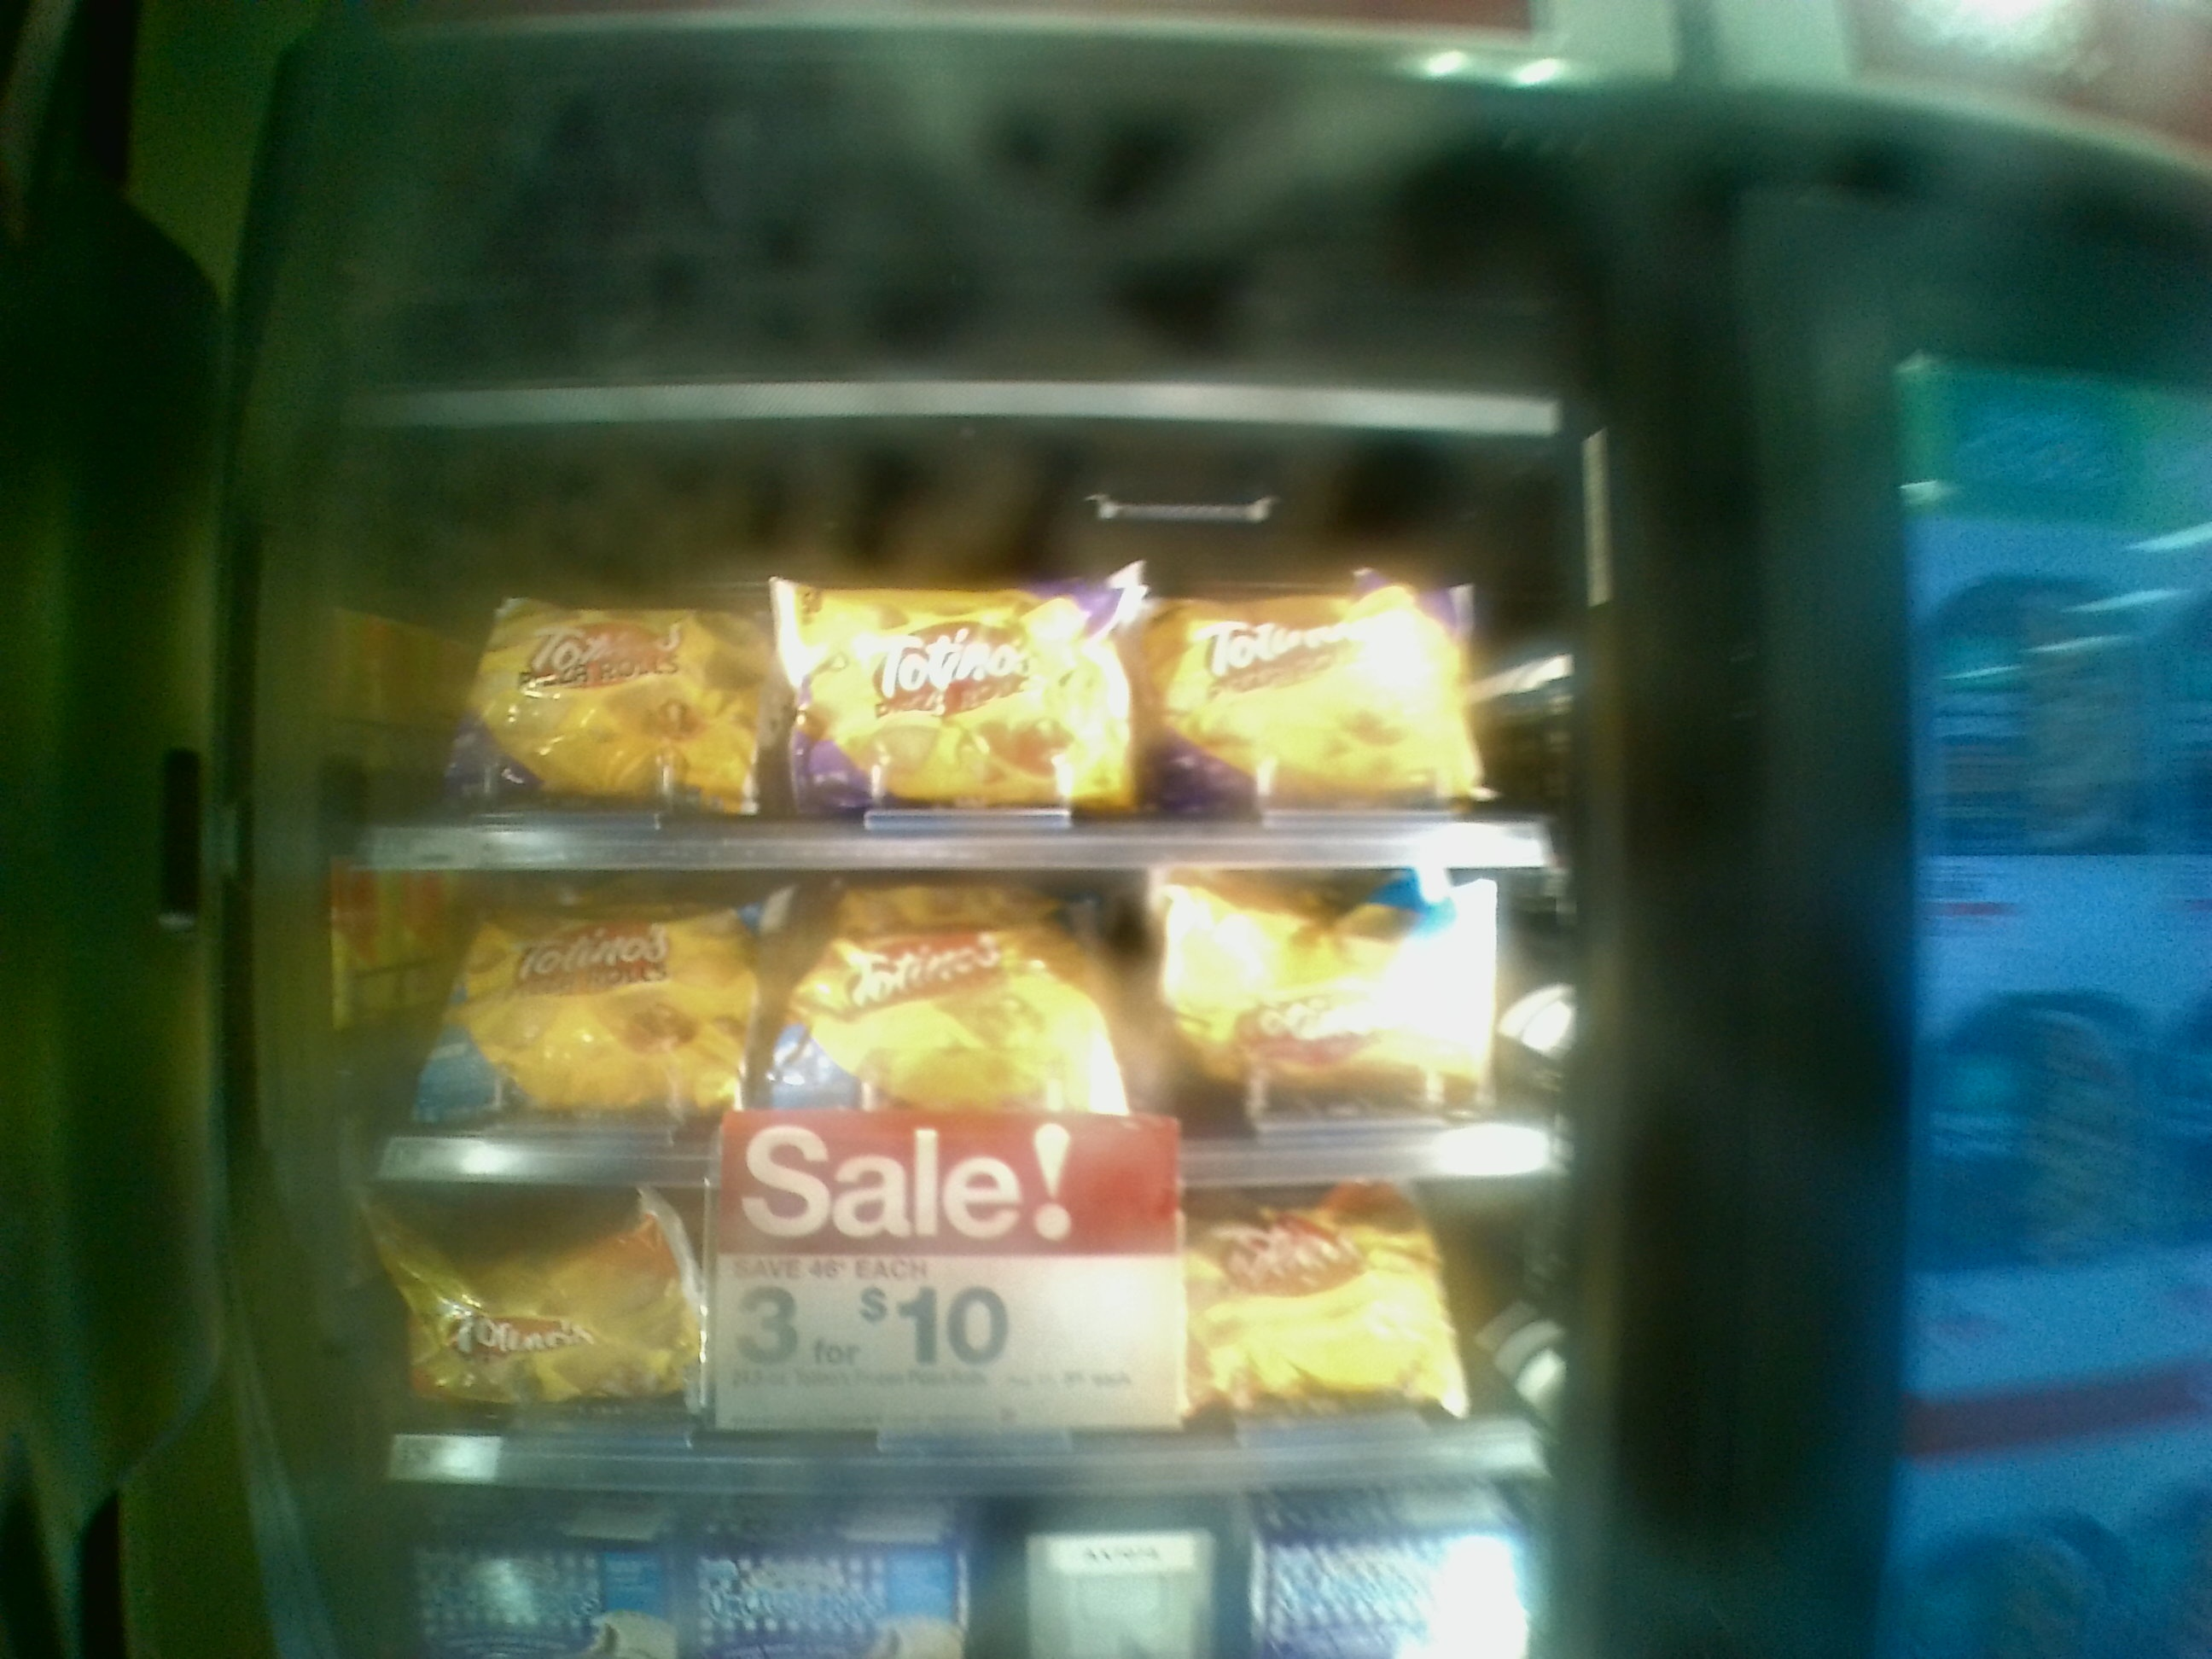shelf: (329, 495, 1559, 856), (317, 1143, 1536, 1466), (327, 859, 1550, 1164)
